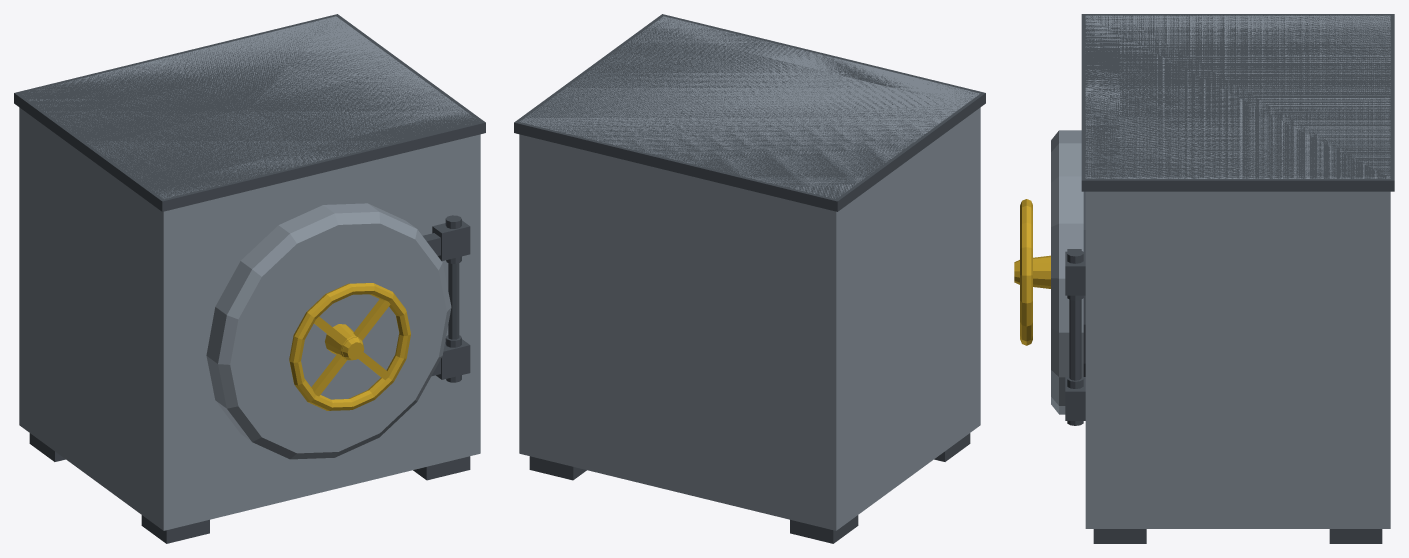
File: cofre_gigante.glb
3 views of the same model, side by side, from view 1: azimuth 30°, elevation 25°; view 2: azimuth 150°, elevation 25°; view 3: azimuth 270°, elevation 25° (orthographic). The views are drawn at different scales.
Parts seen in each view (by area): view 1: corpo, porta, volante, dobradica_1, dobradica_2; view 2: corpo; view 3: corpo, porta, volante, dobradica_1, dobradica_2.
Part boxes in pixels (box(x1,y1,x2,y2)): corpo: box(14, 14, 485, 543); porta: box(206, 203, 459, 459); volante: box(289, 283, 410, 410); dobradica_1: box(432, 215, 470, 263); dobradica_2: box(436, 335, 470, 382); corpo: box(514, 14, 985, 543); corpo: box(1081, 14, 1394, 543); porta: box(1051, 130, 1085, 414); volante: box(1014, 199, 1050, 345); dobradica_1: box(1065, 249, 1085, 300); dobradica_2: box(1065, 376, 1085, 425).
Bounding box in the file's own units: 1.94 × 2 × 1.87.
